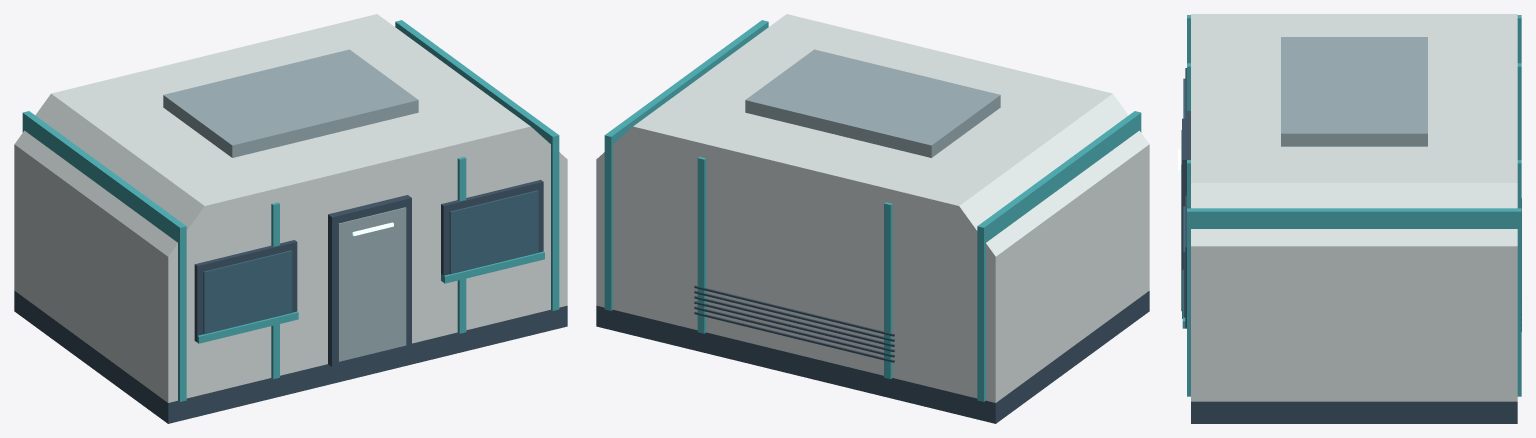
3 views of the same model, side by side, from view 1: azimuth 30°, elevation 25°; view 2: azimuth 150°, elevation 25°; view 3: azimuth 270°, elevation 25° (orthographic). The views are drawn at different scales.
Parts seen in each view (by area): view 1: shell, metal, dark, accent, glass; view 2: shell, metal, dark, accent; view 3: shell, metal, accent, dark, glass.
Boxes of the visible parts, x1=… form: shell: x1=14, y1=14, x2=567, y2=402; metal: x1=163, y1=49, x2=418, y2=361; dark: x1=14, y1=180, x2=567, y2=423; accent: x1=22, y1=20, x2=559, y2=401; glass: x1=203, y1=190, x2=538, y2=334; shell: x1=596, y1=14, x2=1149, y2=402; metal: x1=745, y1=49, x2=1000, y2=157; dark: x1=596, y1=285, x2=1149, y2=423; accent: x1=604, y1=20, x2=1141, y2=401; shell: x1=1191, y1=14, x2=1517, y2=401; metal: x1=1181, y1=37, x2=1427, y2=311; accent: x1=1182, y1=15, x2=1521, y2=396; dark: x1=1182, y1=68, x2=1521, y2=423; glass: x1=1183, y1=78, x2=1185, y2=317.
Bounding box in the file's own units: 6 × 3.18 × 4.21.
